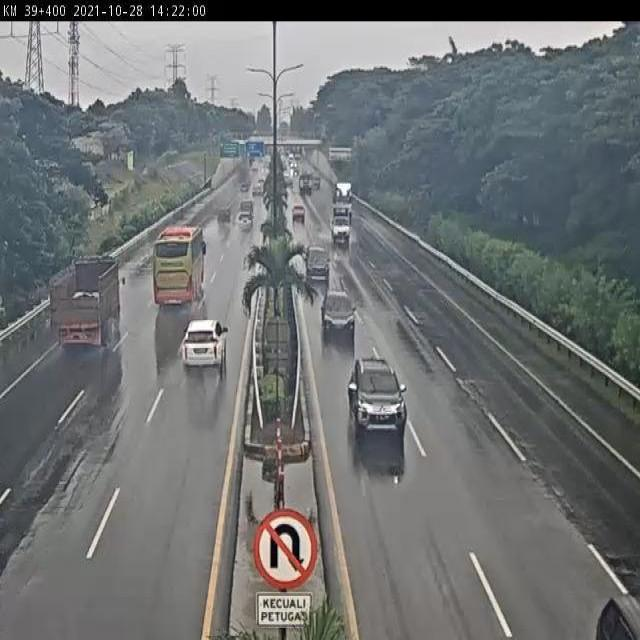big bus: (152, 225, 207, 311)
car: (346, 357, 408, 439), (183, 317, 230, 371), (318, 286, 358, 342), (302, 243, 331, 284)
truck-l-: (51, 254, 121, 354)
truck-s-: (328, 202, 352, 242)
